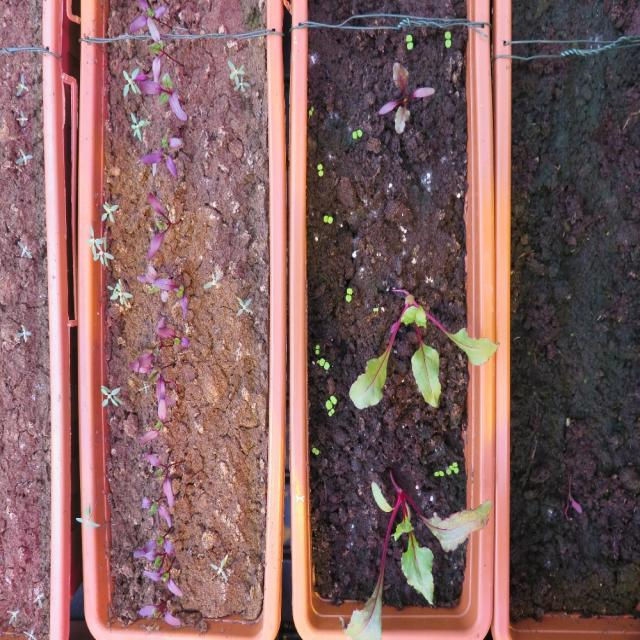weed: (99, 380, 124, 408), (209, 551, 229, 585), (201, 266, 223, 291), (12, 144, 34, 167), (235, 294, 254, 318), (12, 321, 32, 343), (15, 237, 33, 260), (14, 69, 28, 97), (13, 106, 29, 129), (4, 606, 20, 626), (32, 584, 44, 610), (404, 31, 414, 51), (351, 126, 363, 139), (444, 29, 451, 50), (344, 285, 352, 302), (322, 212, 333, 224), (310, 444, 320, 456), (316, 162, 323, 178), (432, 468, 444, 477), (307, 102, 314, 117), (314, 342, 320, 355), (372, 304, 379, 312)
